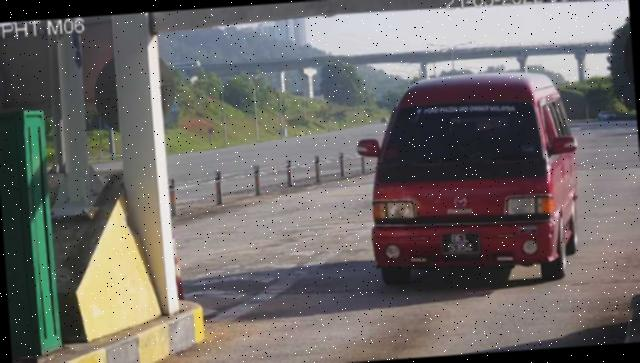License_Plate: (440, 229, 481, 258)
van: (362, 69, 587, 292)
